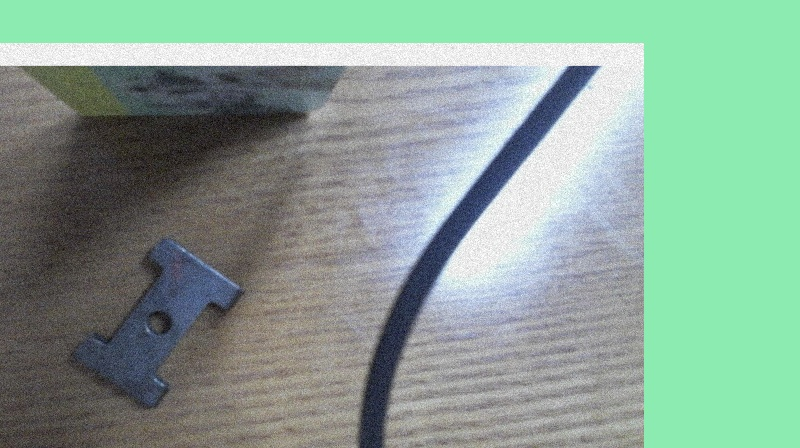O002: (65, 235, 248, 408)
